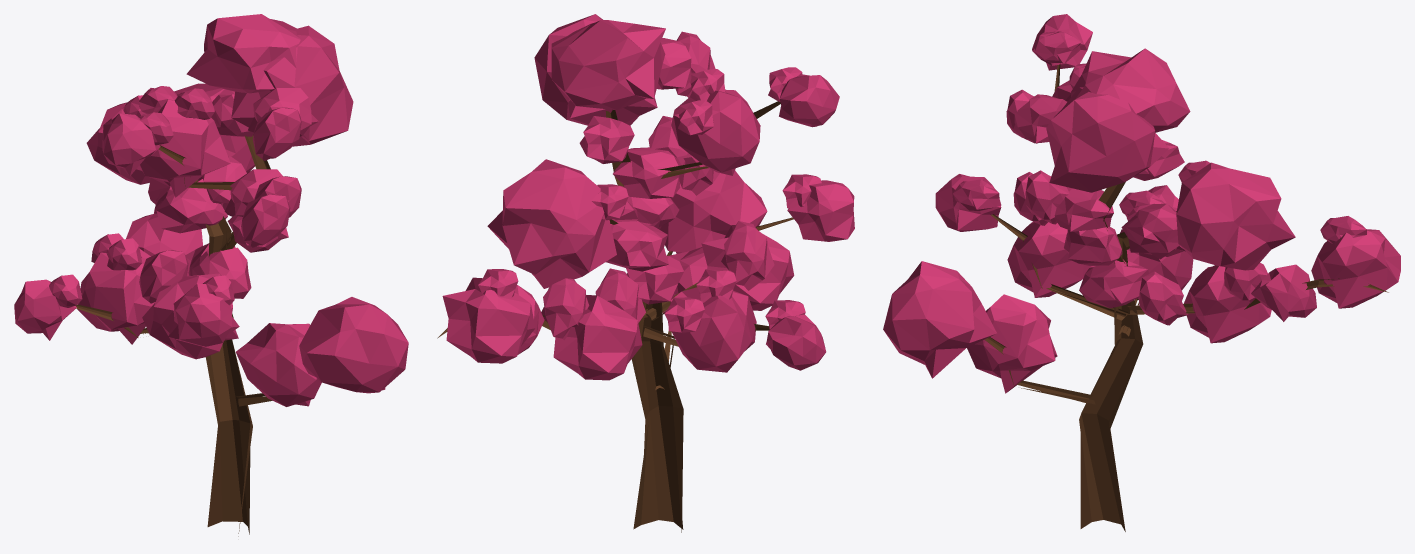
File: distant_tree_6.glb
3 views of the same model, side by side, from view 1: azimuth 30°, elevation 25°; view 2: azimuth 150°, elevation 25°; view 3: azimuth 270°, elevation 25° (orthographic). The views are drawn at different scales.
Parts seen in each view (by area): view 1: ??????????; view 2: ??????????; view 3: ??????????.
Boxes of the visible parts, x1,y1,x2,y2 form: ??????????: (14,14,408,536); ??????????: (437,14,854,532); ??????????: (883,14,1400,531).
Size of the model in its own units: 10.23 by 16.5 by 15.84.
